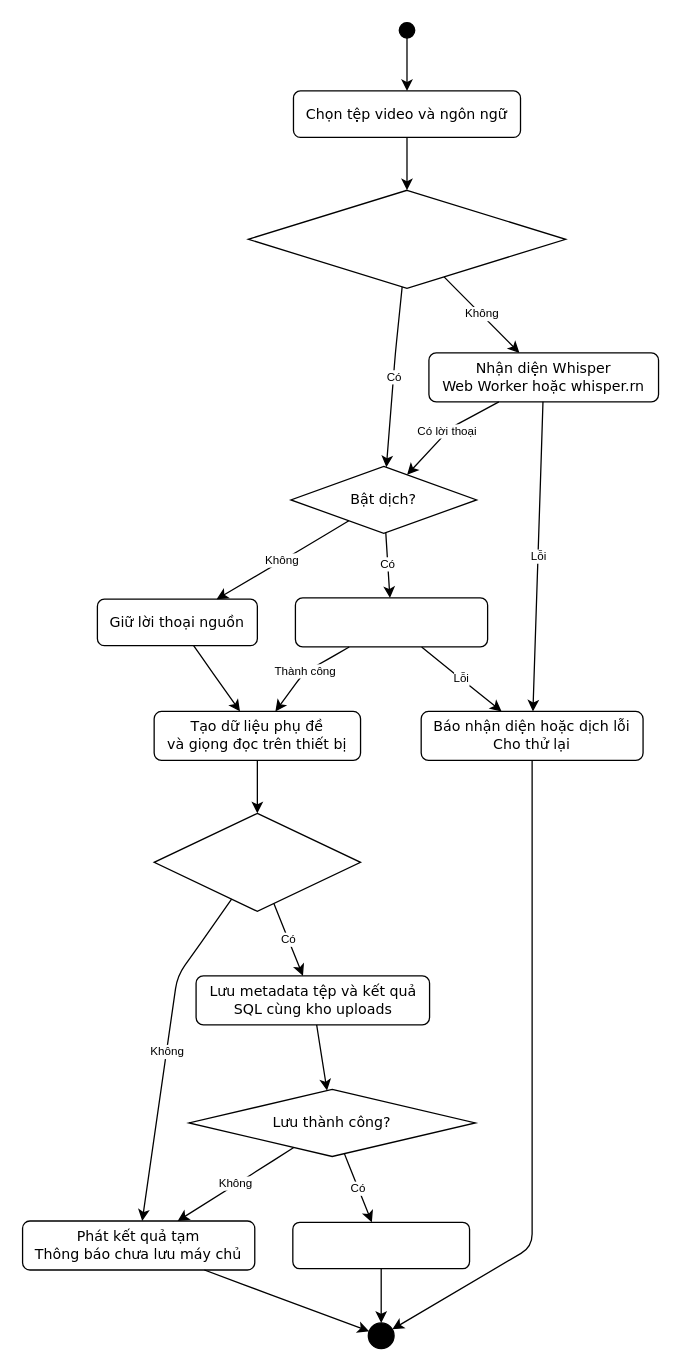
This 681x1371 diagram has some shape labels left out. The centre of each missing label's shape, as x and y in pixels:
"Hiện xác nhận đã lưu" goes at point (381, 1245).
"Mobile có lời thoại nhập tay?" goes at point (406, 238).
"Đăng nhập và có API?" goes at point (257, 861).
"Đọc ngôn ngữ đang bật Gọi MyMemory" goes at point (391, 622).
